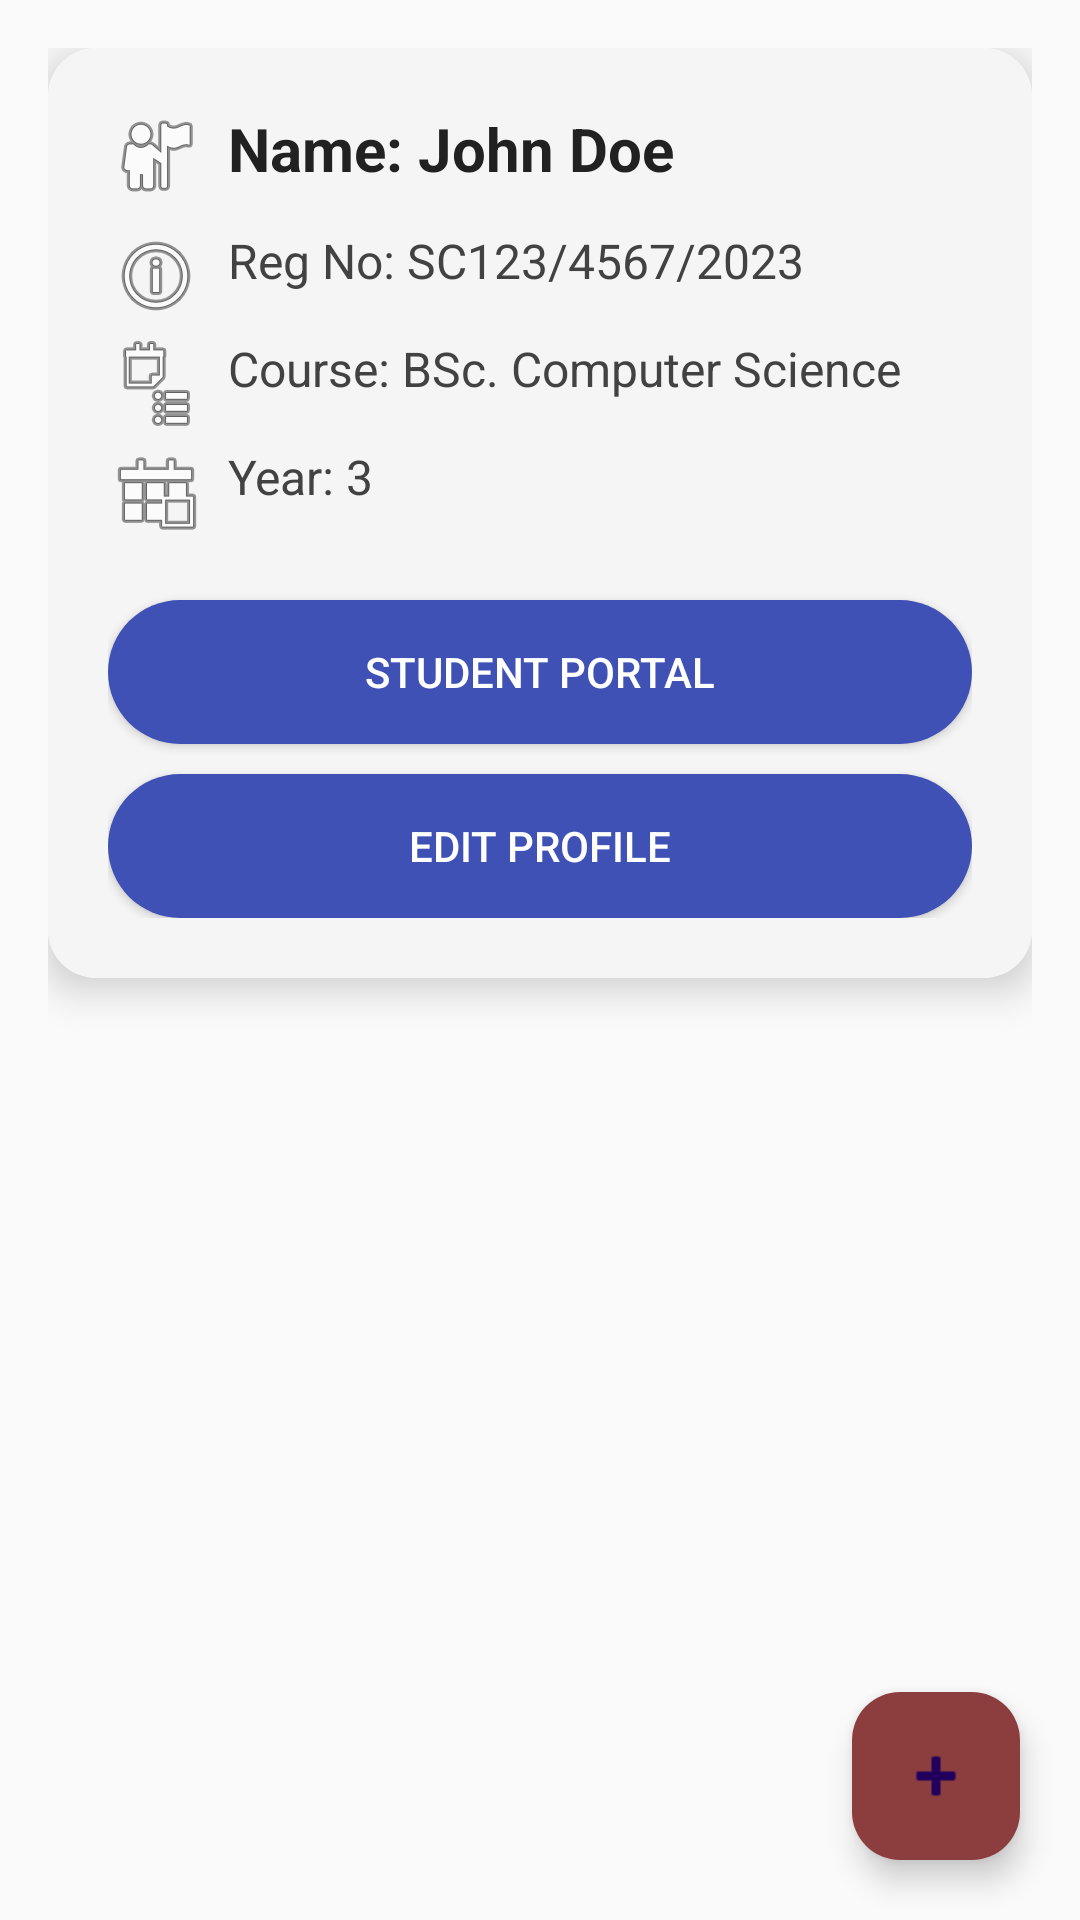

Icon click points for this 1080 × 1920 phone screenshot, format point (x, y):
Add Class: point (936, 1776)
